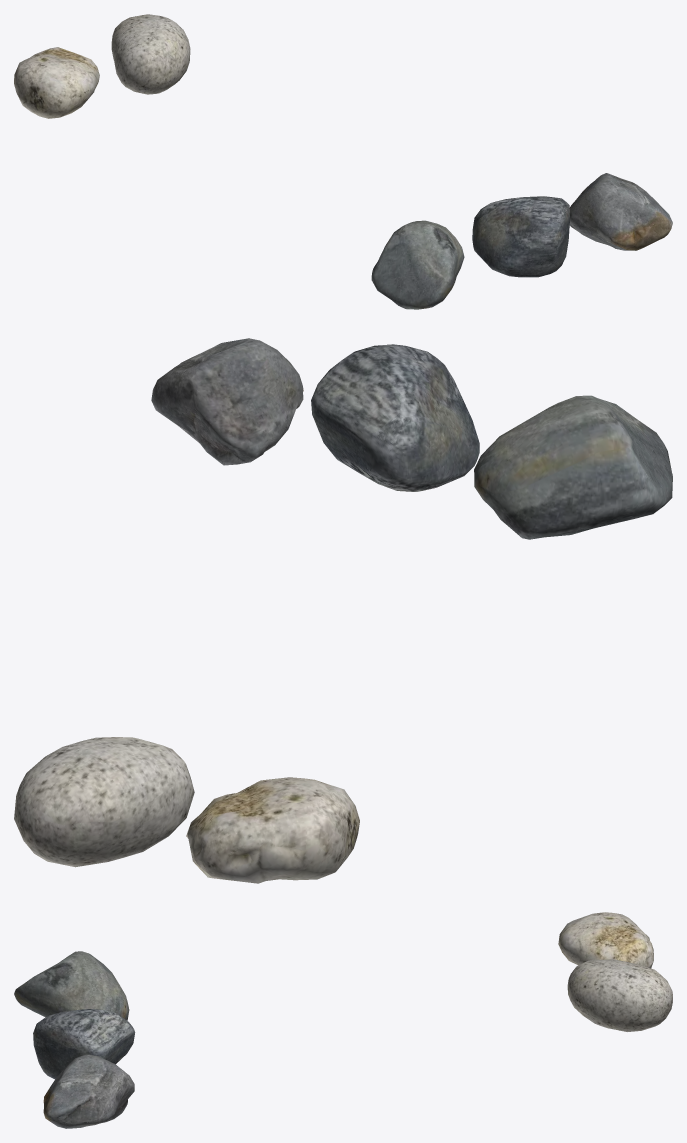
The model's file is realrocks.glb.
The picture shows the model from 3 angles, top to bottom: view 1: azimuth 30°, elevation 25°; view 2: azimuth 150°, elevation 25°; view 3: azimuth 270°, elevation 25°; orthographic projection. The views are drawn at different scales.
Visible parts, largest first — view 1: Object_10, Object_12, Object_8, Object_6, Object_4; view 2: Object_12, Object_10, Object_6, Object_4, Object_8; view 3: Object_6, Object_8, Object_12, Object_10, Object_4.
Part boxes in pixels (x1,y1,x2,y2): Object_10: (472, 196, 570, 277); Object_12: (371, 220, 464, 309); Object_8: (569, 173, 672, 250); Object_6: (111, 14, 190, 94); Object_4: (14, 47, 99, 118); Object_12: (474, 395, 672, 539); Object_10: (311, 344, 479, 491); Object_6: (14, 737, 194, 867); Object_4: (186, 777, 359, 883); Object_8: (151, 338, 303, 465); Object_6: (567, 959, 672, 1031); Object_8: (43, 1054, 134, 1128); Object_12: (14, 951, 129, 1020); Object_10: (33, 1009, 135, 1079); Object_4: (558, 912, 653, 968).
Size of the model in its own units: 1.02 by 0.1939 by 1.6.
Materials: 5 (5 with a texture image).
